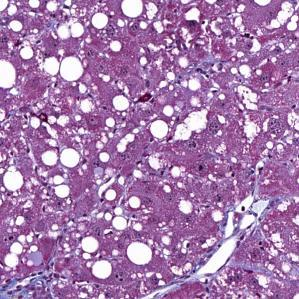fibrosis: (0, 270, 59, 299)
